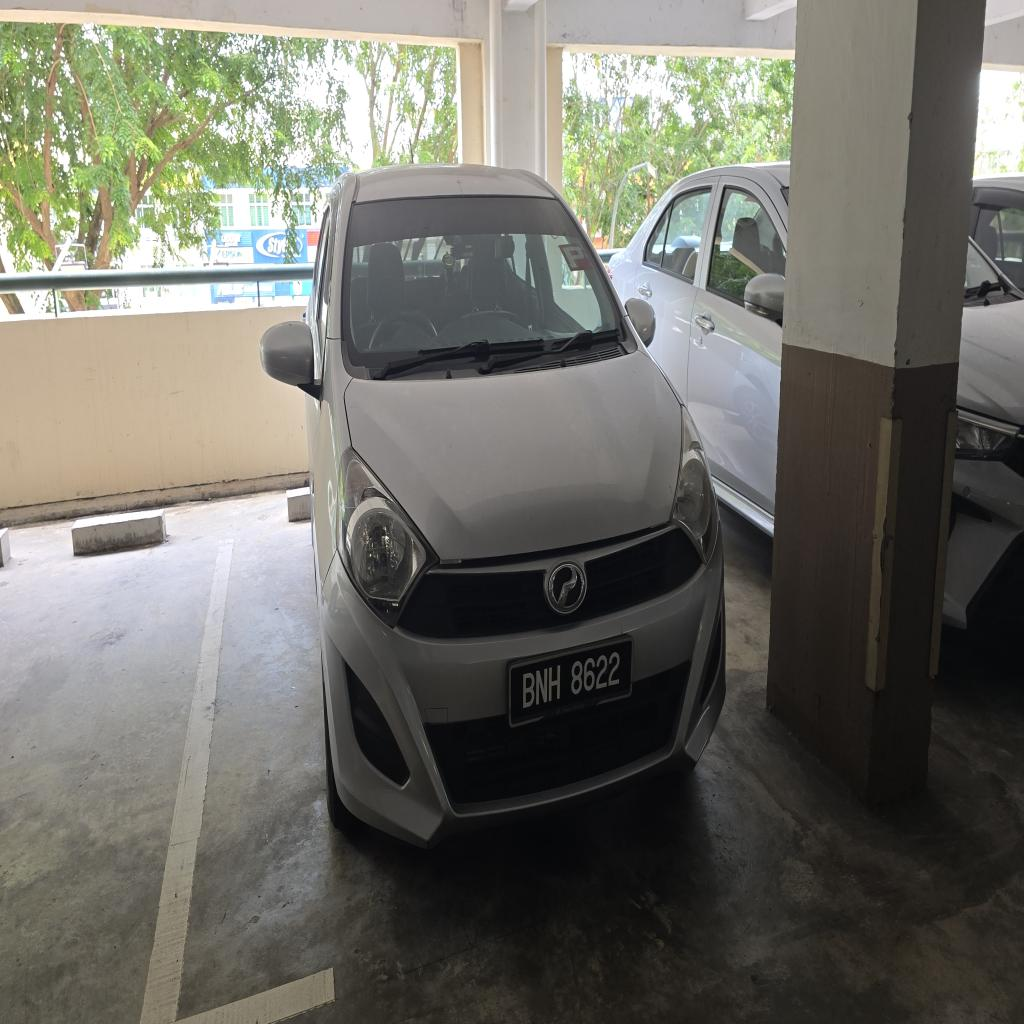car: (262, 167, 724, 844)
car plate: (509, 638, 631, 726)
